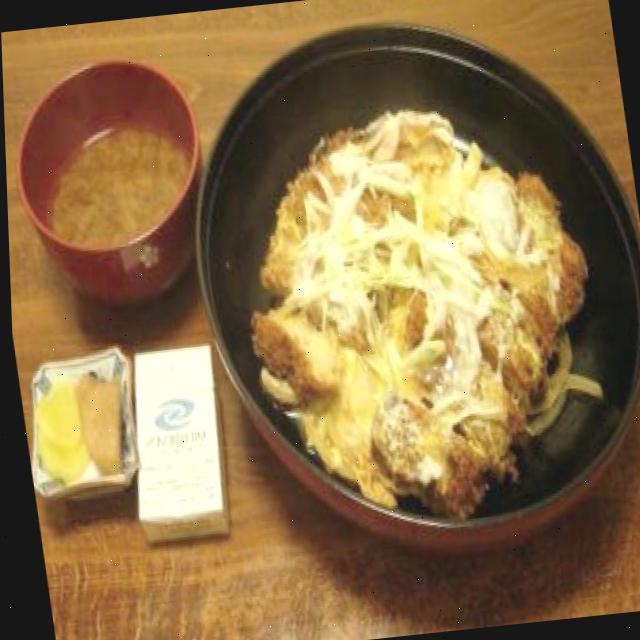汤锅炖物: (2, 43, 218, 261)
